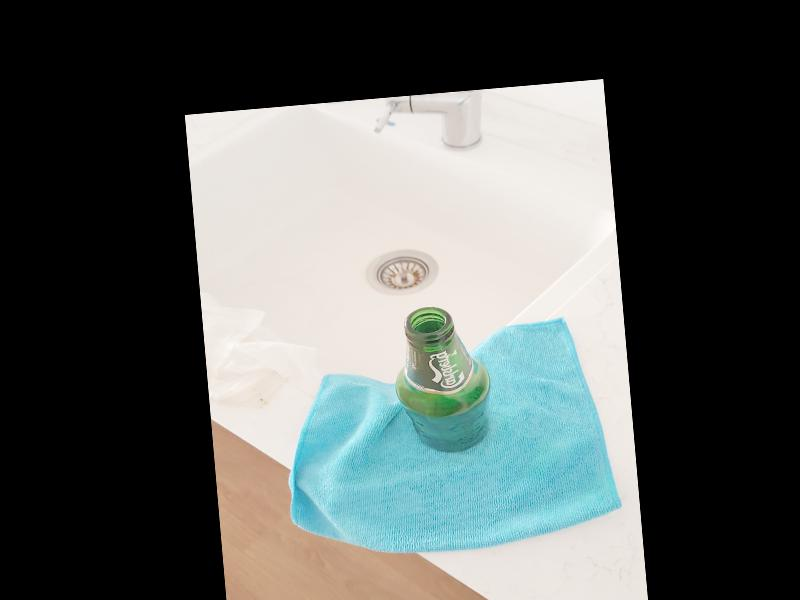Beer: (388, 304, 491, 458)
